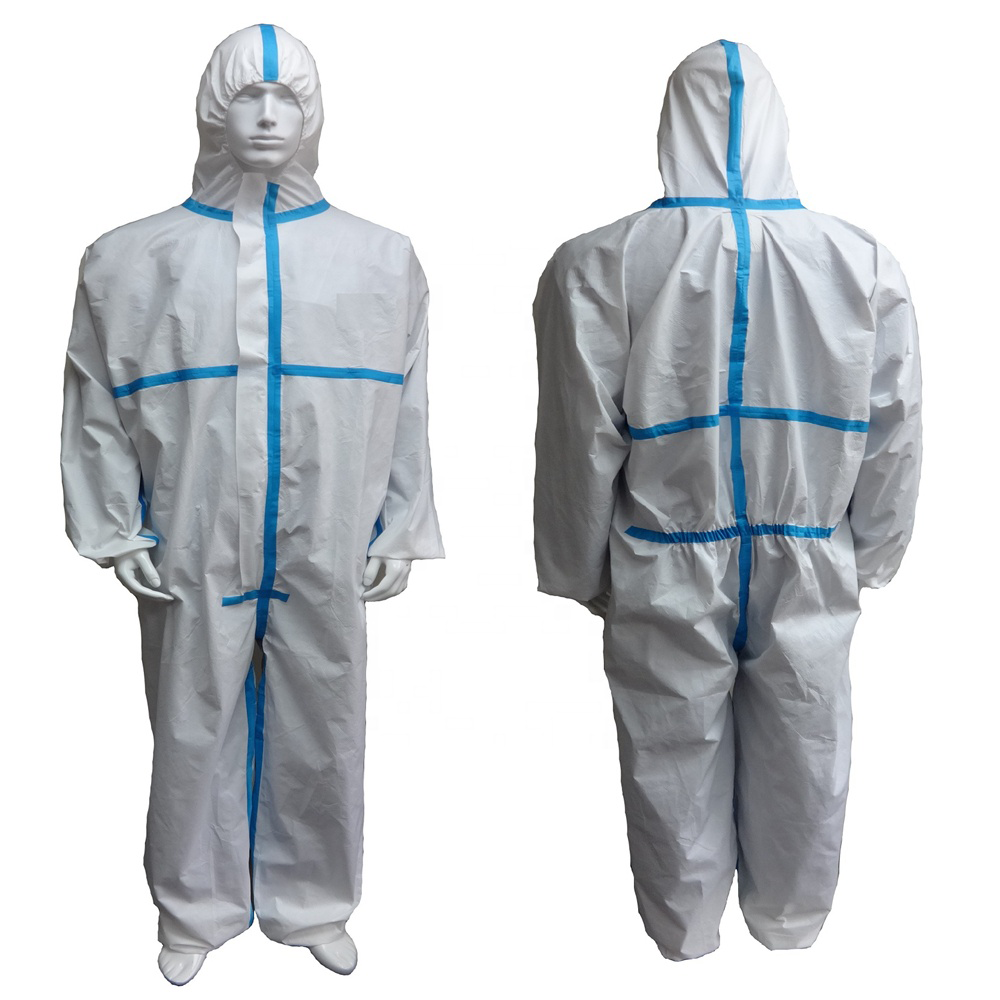Coverall: (529, 26, 928, 961), (62, 20, 435, 937)
